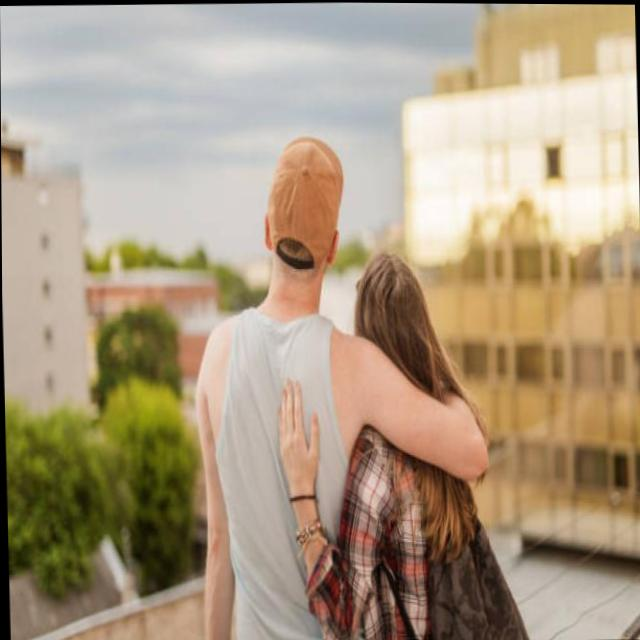no helmet: (245, 124, 363, 310)
